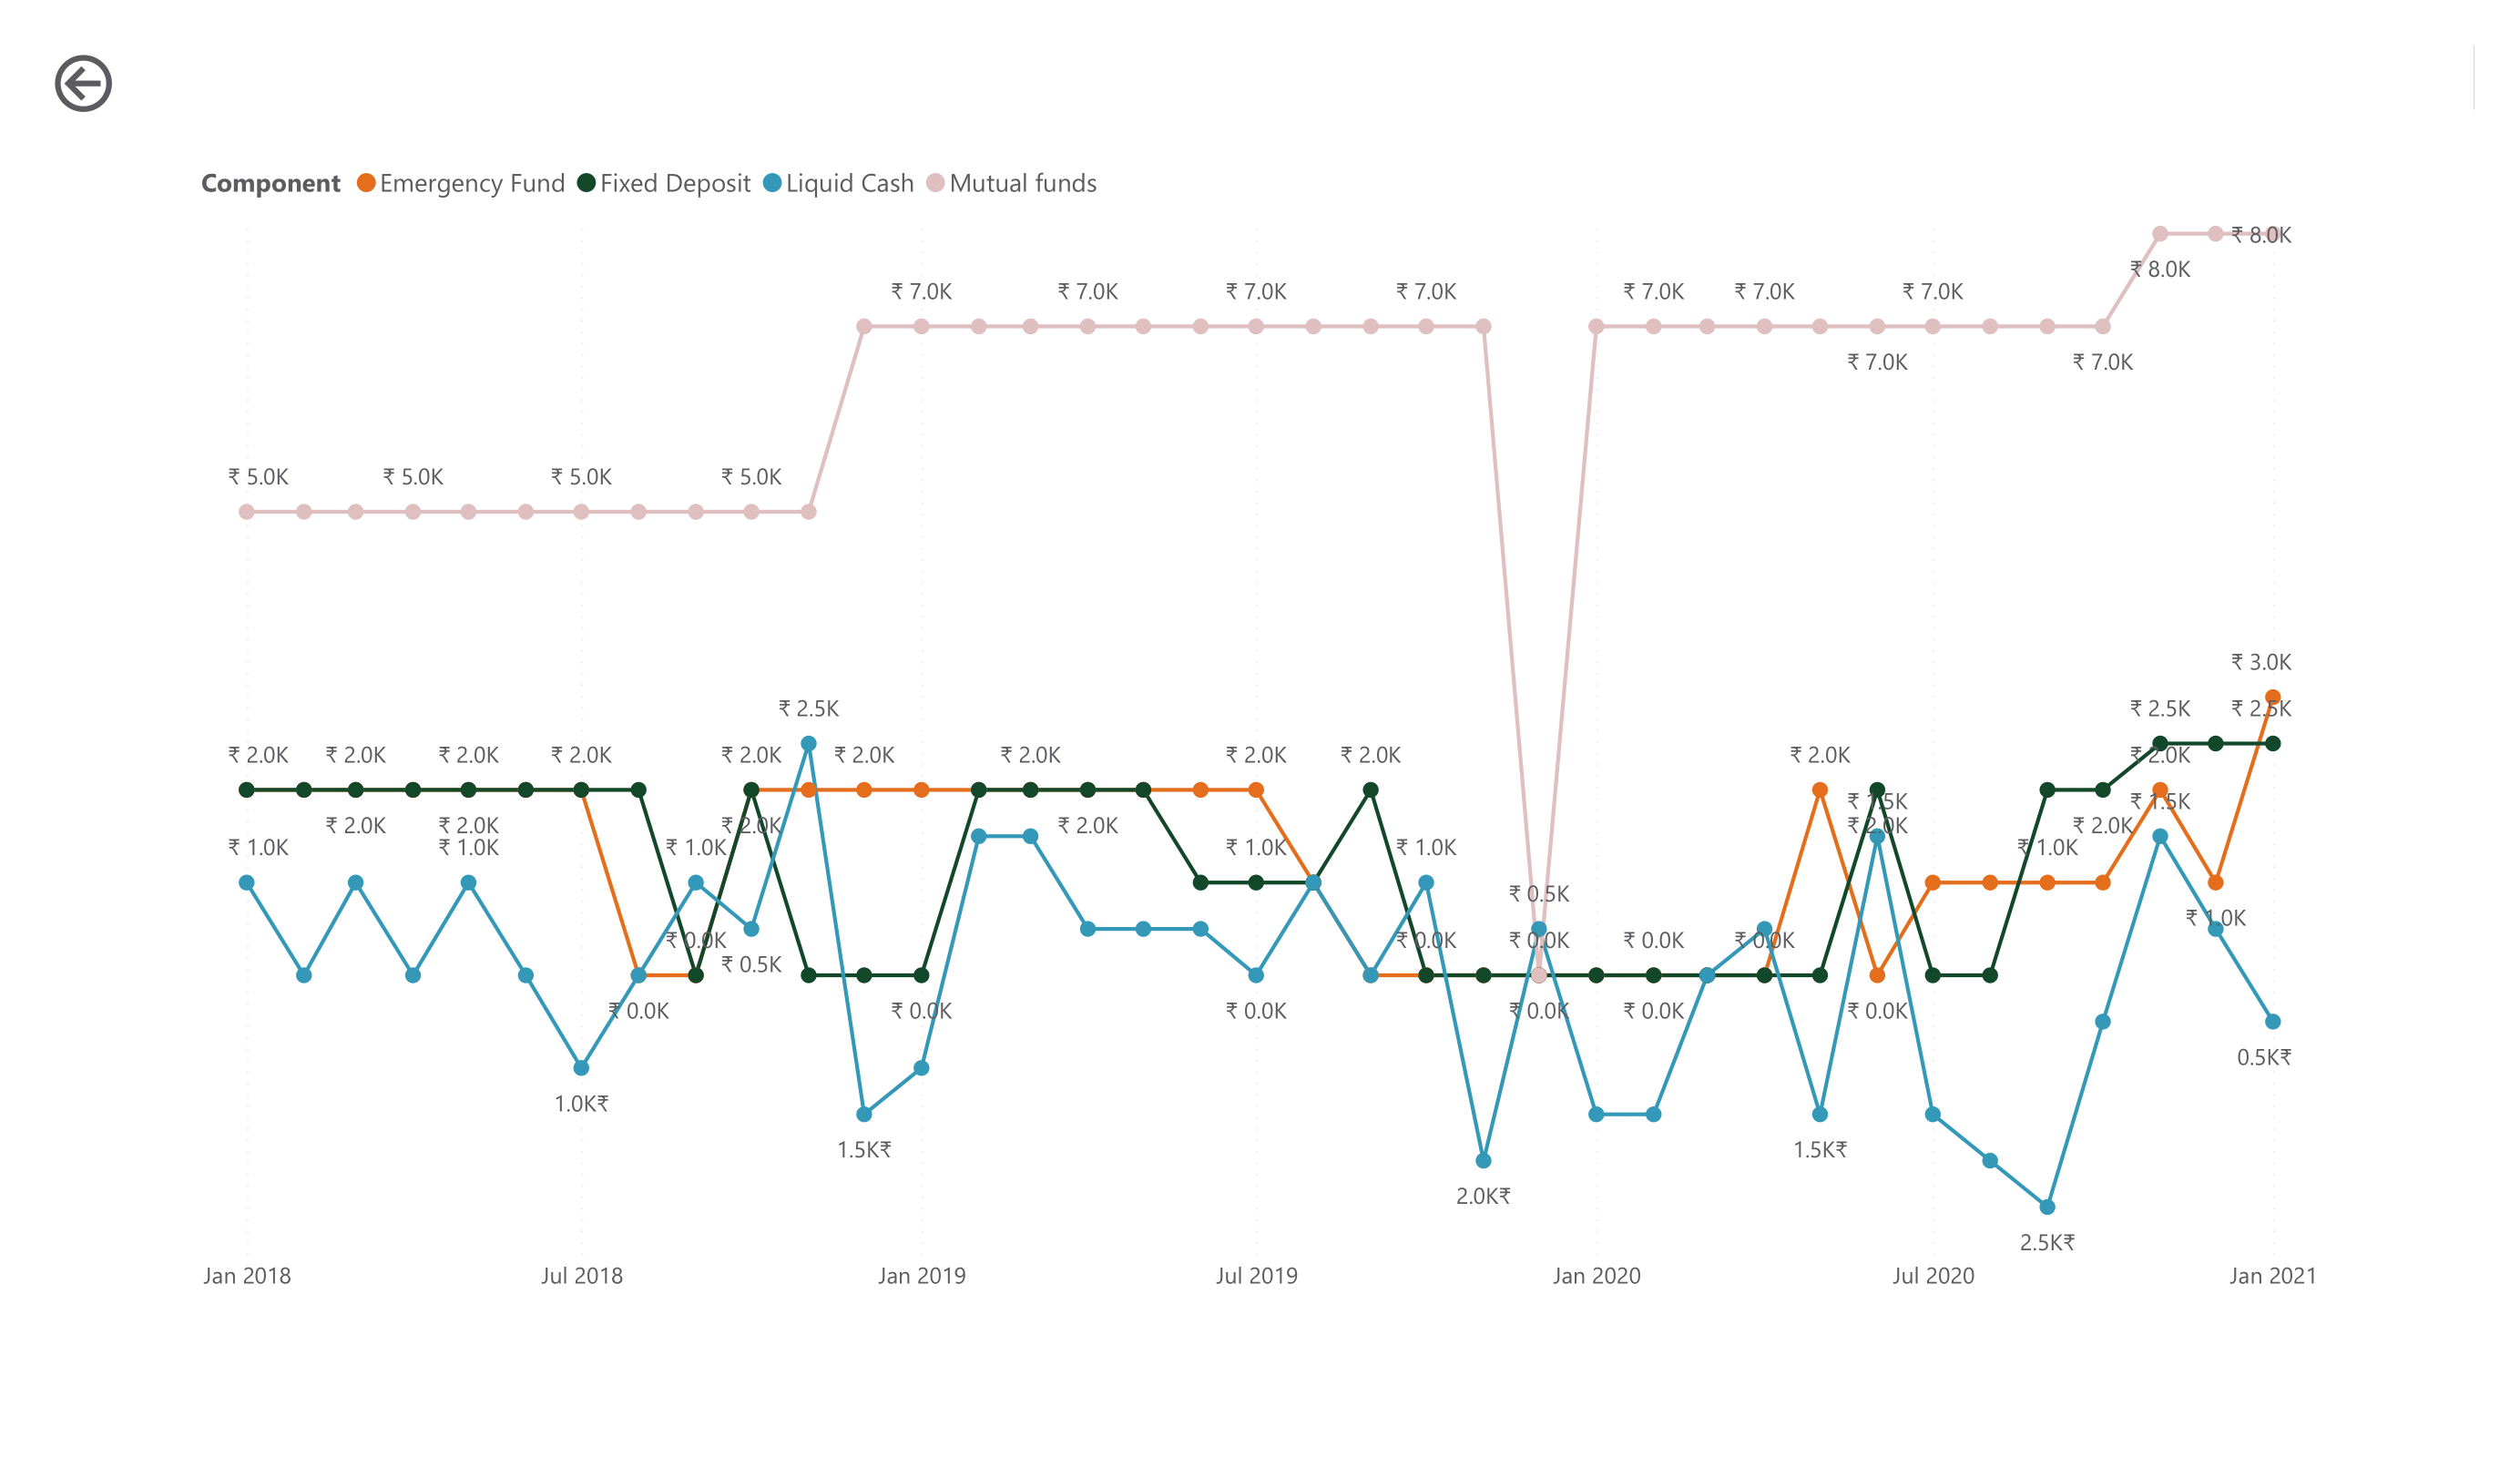

The page's visual inventory and layout, read from the dashboard file:
{"tool":"powerbi","page":{"name":"TT1","canvas":[1280,720],"ordinal":1},"visuals":[{"type":"lineChart","fields":{"Category":["MyFinData.Date"],"Series":["MyFinData.Component"],"Y":["Key Measures.Total Expense"]},"box":[77,52,1126,615],"z":0},{"type":"actionButton","box":[0,0,100,40],"z":1000}]}

Visuals, with their boxes on the page's 1280x720 design canvas (x1, y1, x2, y2). These are canvas units, not pixel positions in the 2520x1457 screenshot, which may show the page scaled, cropped or inside an application window:
lineChart - MyFinData.Date x MyFinData.Component: region(77, 52, 1203, 667)
actionButton: region(0, 0, 100, 40)
